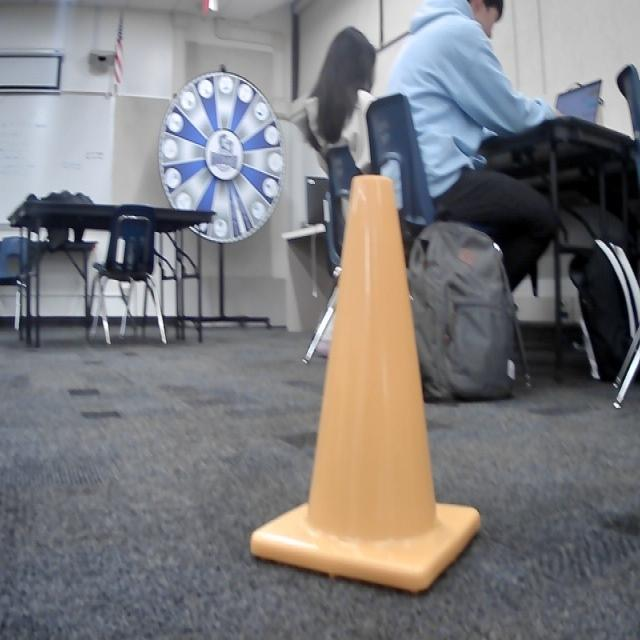cone: (246, 177, 481, 596)
